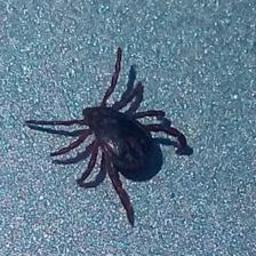Rhipicephalus sanguineus: (24, 47, 189, 225)
